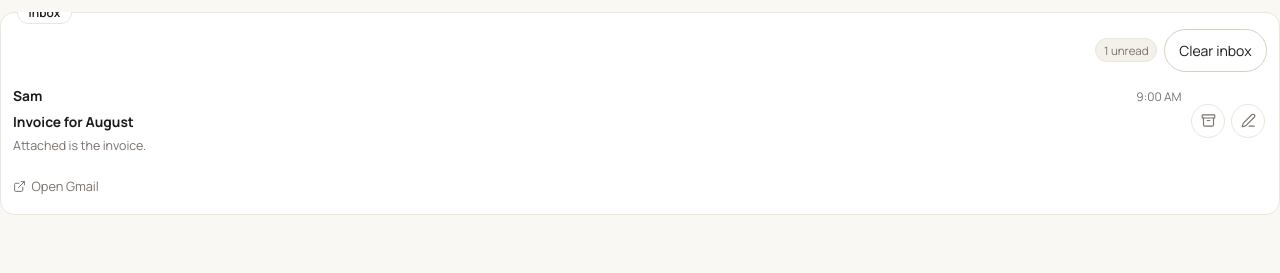
it: GmailSummaryCard archive › keeps the row and shows the reason when archiving fails
This screenshot has width=1280, height=273.
Expected: the text "Invoice for August" is shown, [13, 112, 134, 131]
Click the button named "Archive". click: {"x": 1208, "y": 121}
box: [1191, 104, 1225, 138]
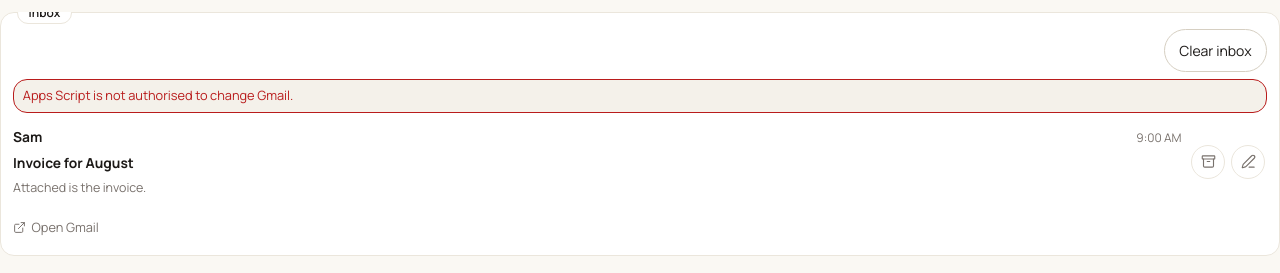
Expected: the text "Invoice for August" is shown, [13, 153, 134, 172]
Now the message shows "not authorised to change Gmail", box [23, 86, 293, 104]
